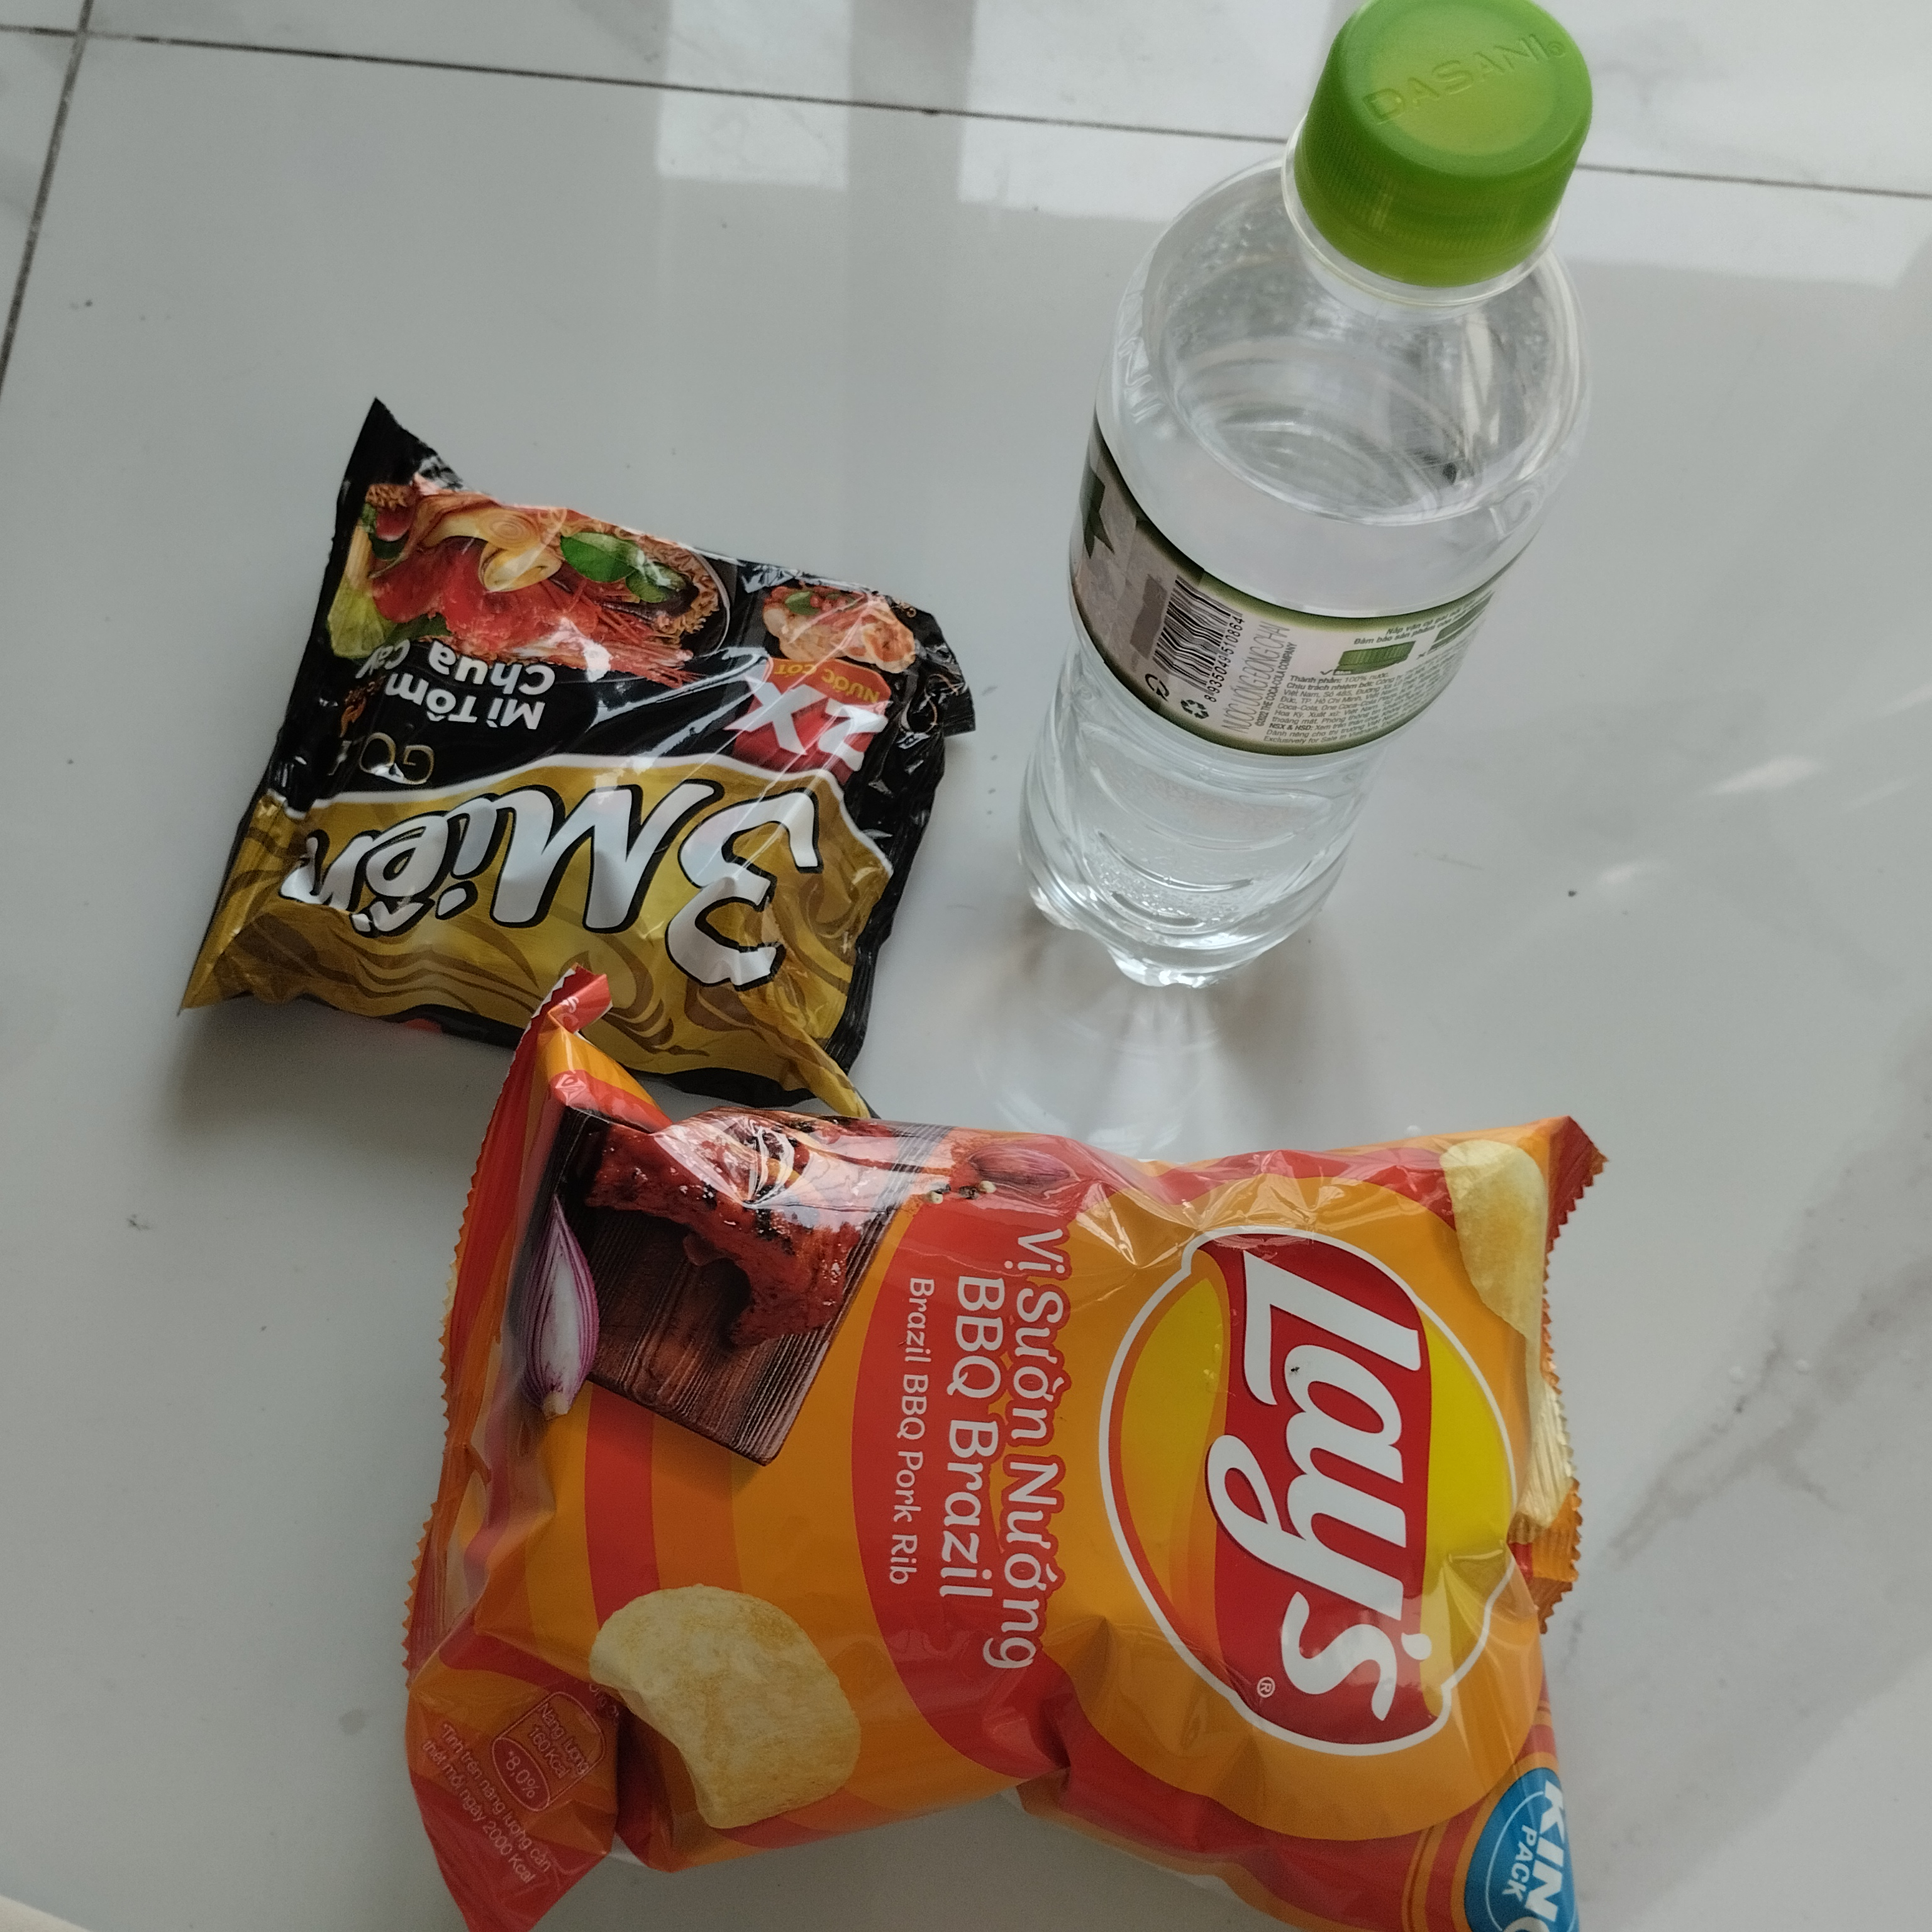3mien: (172, 396, 975, 1148)
Dasani: (1016, 4, 1592, 1040)
Lays: (382, 950, 1631, 1932)
